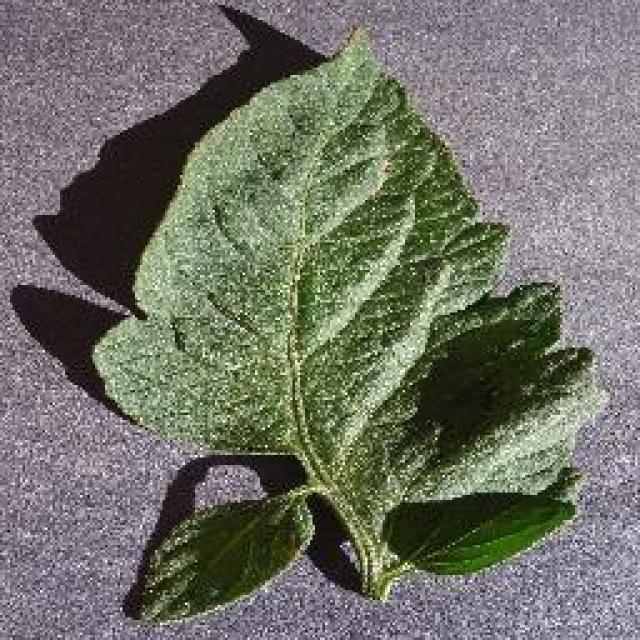Healthy: (72, 8, 620, 622)
